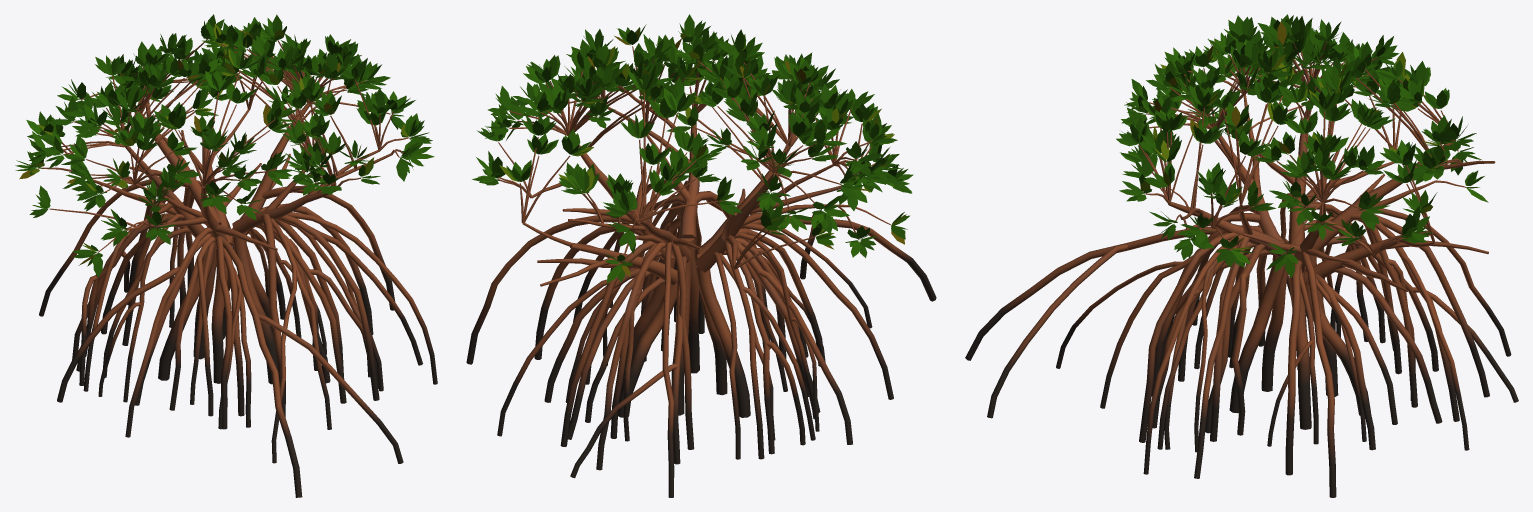
Rendered from RedMangrove_08_RedStemsSmall.fbx.
3 views of the same model, side by side, from view 1: azimuth 30°, elevation 25°; view 2: azimuth 150°, elevation 25°; view 3: azimuth 270°, elevation 25° (orthographic). The views are drawn at different scales.
Parts seen in each view (by area): view 1: RedMangrove_08_RedStemsSmall_LOD0; view 2: RedMangrove_08_RedStemsSmall_LOD0; view 3: RedMangrove_08_RedStemsSmall_LOD0.
Part boxes in pixels (x1=…): RedMangrove_08_RedStemsSmall_LOD0: x1=15, y1=14, x2=437, y2=497; RedMangrove_08_RedStemsSmall_LOD0: x1=466, y1=14, x2=936, y2=497; RedMangrove_08_RedStemsSmall_LOD0: x1=965, y1=14, x2=1518, y2=497.
Size of what is drawn, in the model's own units: 3.69 by 3.09 by 4.39.
